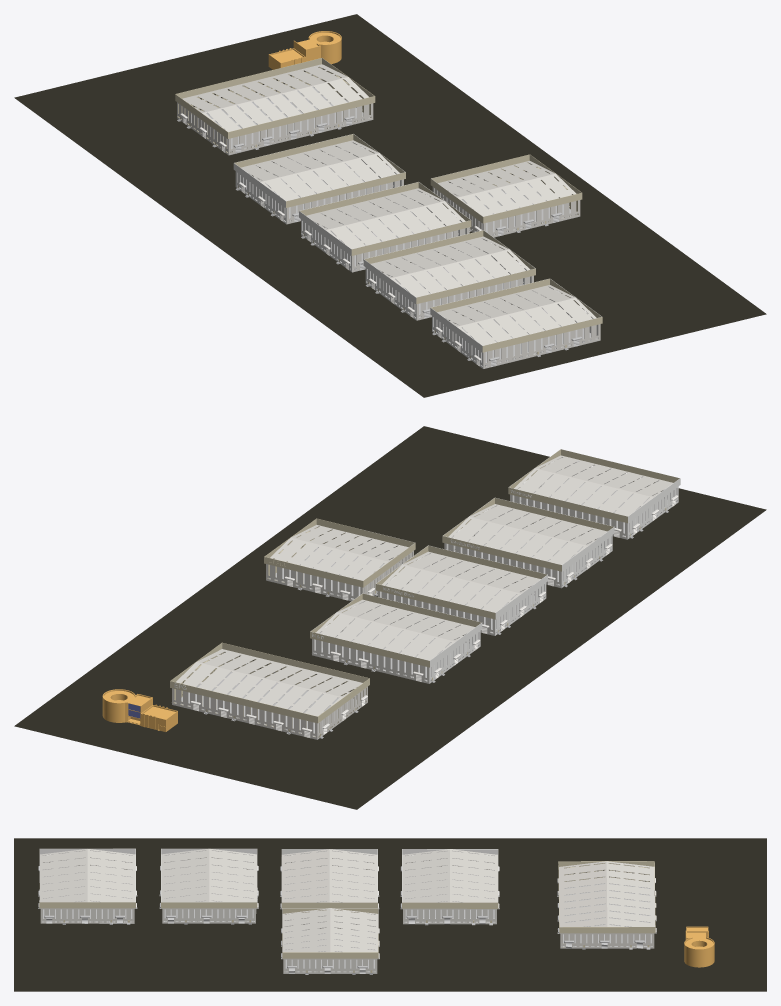
3 views of the same model, one above another, from view 1: azimuth 30°, elevation 25°; view 2: azimuth 150°, elevation 25°; view 3: azimuth 270°, elevation 25° (orthographic). The views are drawn at different scales.
Visible parts, largest first — view 1: Plane, roof.003, walls .004, roof (2).001, roof (2).003, roof (2).002, roof (2), walls (1).004, roof (1), walls (1).001, walls (1).002, walls (1).003 (+5 smaller); view 2: Plane, roof.003, walls .004, roof (2), roof (2).001, roof (2).003, roof (2).002, walls (1).002, roof (1), walls (1).004, walls (1).003, walls (1).001 (+5 smaller); view 3: Plane, roof.003, roof (2).003, roof (2).002, roof (2).001, roof (2), roof (1), walls .004, walls (1).004, walls (1).001, walls (1).002, walls (1) (+8 smaller).
Part boxes in pixels (x1=…): Plane: x1=14, y1=14, x2=766, y2=397; roof.003: x1=182, y1=64, x2=368, y2=131; walls .004: x1=175, y1=58, x2=375, y2=155; roof (2).001: x1=241, y1=140, x2=399, y2=200; roof (2).003: x1=437, y1=285, x2=596, y2=345; roof (2).002: x1=306, y1=188, x2=465, y2=248; roof (2): x1=371, y1=236, x2=529, y2=297; walls (1).004: x1=430, y1=278, x2=602, y2=368; roof (1): x1=438, y1=161, x2=576, y2=216; walls (1).001: x1=363, y1=230, x2=535, y2=320; walls (1).002: x1=233, y1=134, x2=405, y2=224; walls (1).003: x1=299, y1=182, x2=471, y2=272; Plane: x1=14, y1=426, x2=766, y2=809; roof.003: x1=176, y1=649, x2=362, y2=716; walls .004: x1=170, y1=642, x2=369, y2=739; roof (2): x1=448, y1=504, x2=607, y2=564; roof (2).001: x1=316, y1=599, x2=475, y2=660; roof (2).003: x1=514, y1=455, x2=672, y2=516; roof (2).002: x1=381, y1=551, x2=540, y2=612; walls (1).002: x1=310, y1=593, x2=482, y2=683; roof (1): x1=270, y1=525, x2=408, y2=580; walls (1).004: x1=508, y1=449, x2=680, y2=539; walls (1).003: x1=375, y1=545, x2=547, y2=635; walls (1).001: x1=442, y1=497, x2=614, y2=587; Plane: x1=14, y1=838, x2=766, y2=991; roof.003: x1=559, y1=861, x2=655, y2=927; roof (2).003: x1=39, y1=849, x2=135, y2=902; roof (2).002: x1=281, y1=849, x2=377, y2=902; roof (2).001: x1=402, y1=849, x2=497, y2=902; roof (2): x1=161, y1=848, x2=256, y2=901; roof (1): x1=282, y1=908, x2=378, y2=952; walls .004: x1=558, y1=861, x2=655, y2=948; walls (1).004: x1=39, y1=848, x2=135, y2=923; walls (1).001: x1=161, y1=848, x2=257, y2=923; walls (1).002: x1=402, y1=849, x2=498, y2=923; walls (1): x1=282, y1=933, x2=378, y2=973.
Bounding box in the file's own units: 291 × 19.41 × 602.
